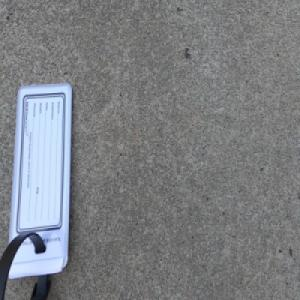LuggageTag: (1, 80, 76, 300)
